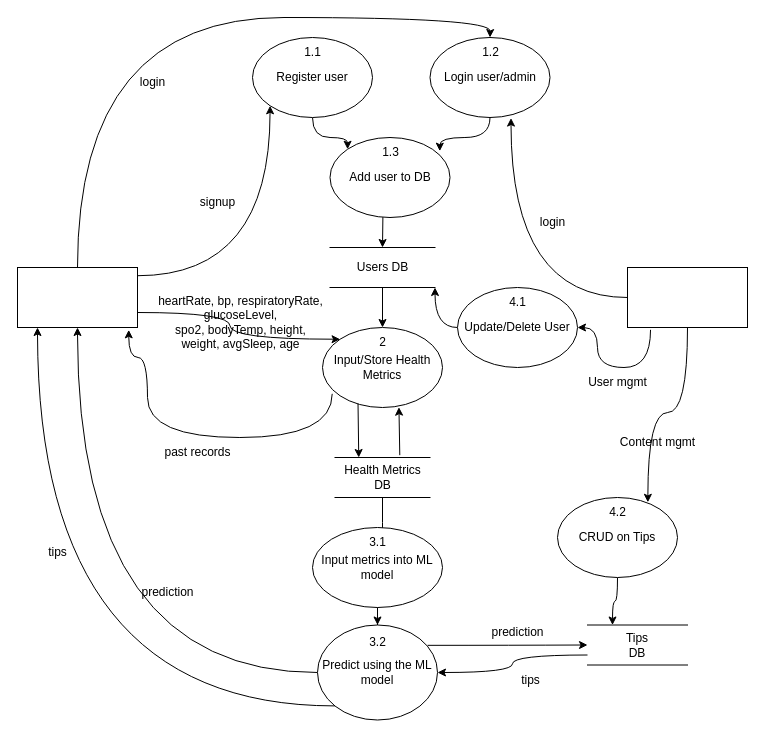
This 765x738 diagram has some shape labels left out. Here are the shapes that lost their labels. From the top down, the centre of each, then its label:
point (77, 297): User
point (687, 297): Admin
